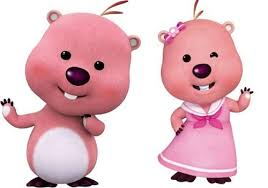Loopy: (1, 1, 142, 188), (157, 1, 253, 184)
